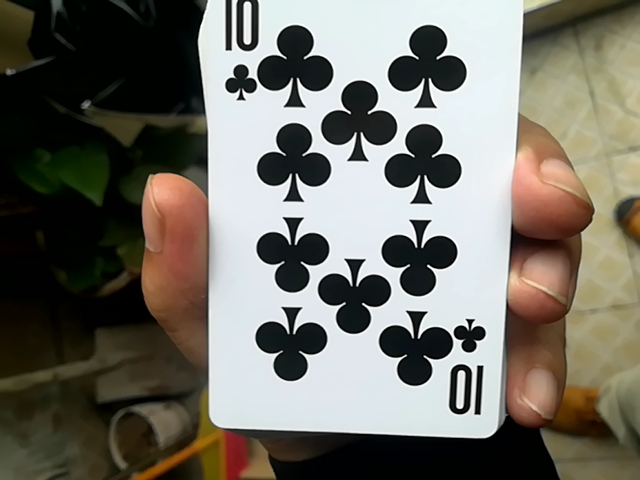mh 10: (198, 0, 509, 433)
